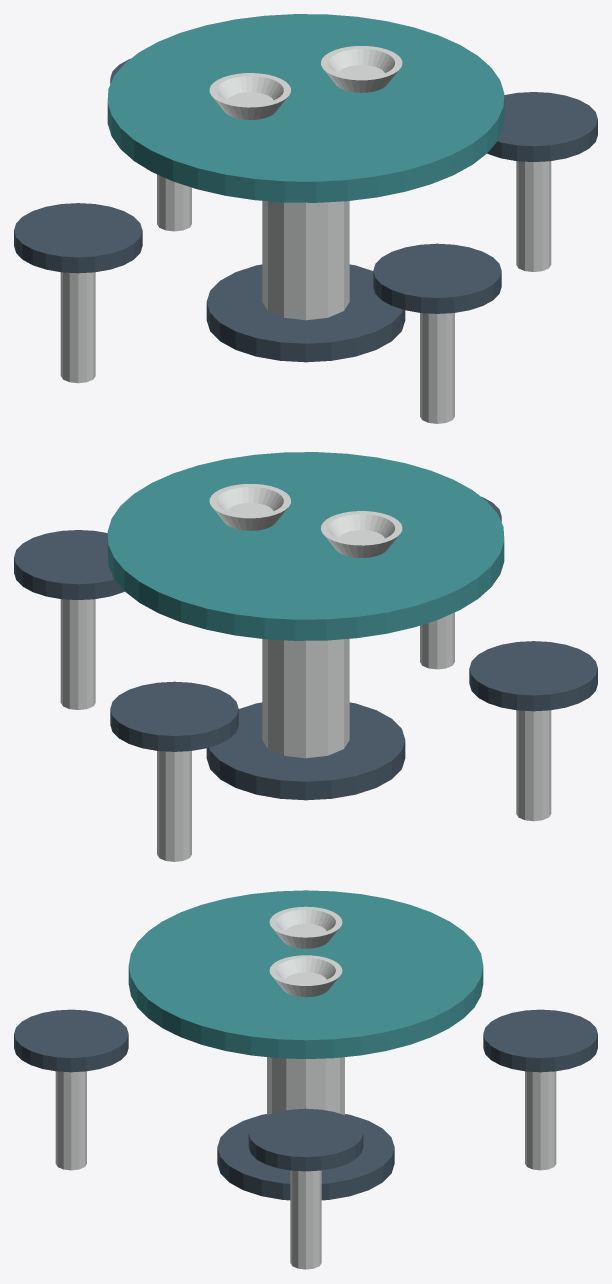
3 renders of one model, top to bottom at view 1: azimuth 30°, elevation 25°; view 2: azimuth 150°, elevation 25°; view 3: azimuth 270°, elevation 25°, orthographic. The views are drawn at different scales.
Parts seen in each view (by area): view 1: MI-024 Bolted communal dining table batched; view 2: MI-024 Bolted communal dining table batched; view 3: MI-024 Bolted communal dining table batched.
Boxes of the visible parts, <box> form: MI-024 Bolted communal dining table batched: <box>14,14,597,423</box>; MI-024 Bolted communal dining table batched: <box>14,452,597,861</box>; MI-024 Bolted communal dining table batched: <box>14,890,597,1269</box>.
Bounding box in the file's own units: 2.24 × 0.92 × 2.24.
